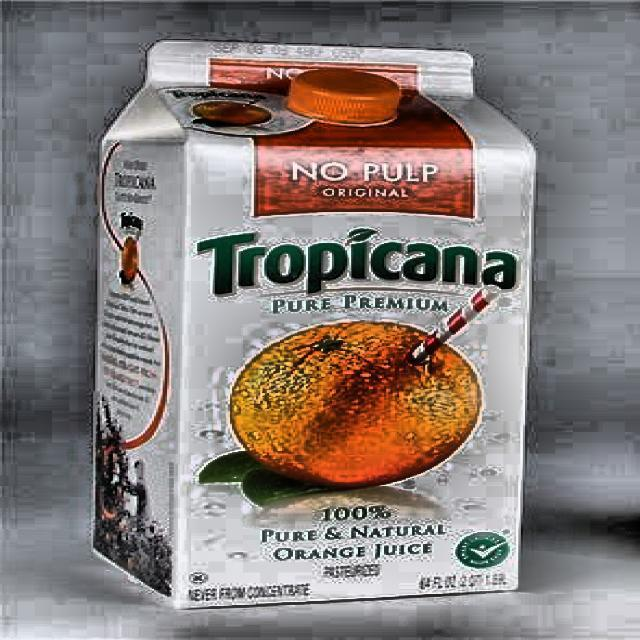cardboard: (89, 39, 536, 609)
